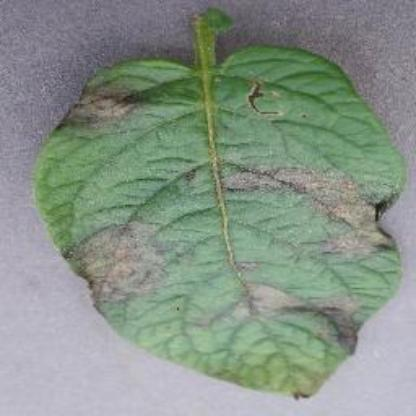Late-Blight: (34, 34, 392, 402)
